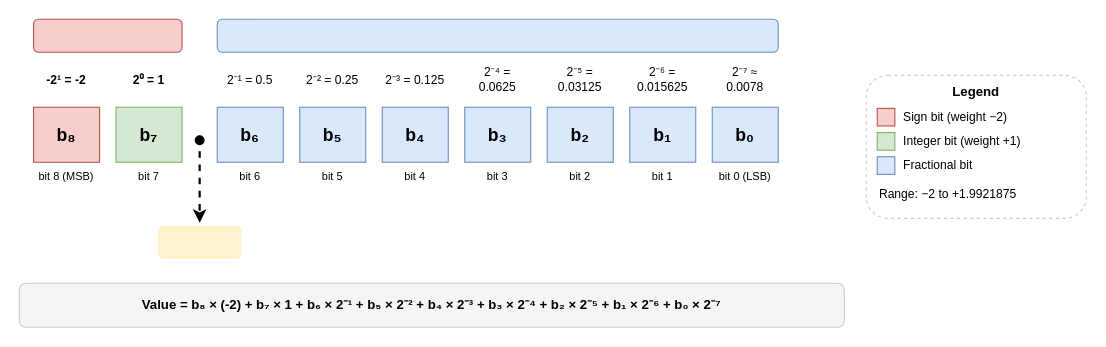
The diagram is 1106 pixels wide and 347 high, and some of its shapes have lost their labels. Here are the shapes that lost their labels. From the top down, the box of each, then its label:
(32, 18, 182, 52): Integer Part (2 bits)
(216, 18, 778, 52): Fractional Part (7 bits)
(157, 226, 241, 258): ▲ implied binary point
